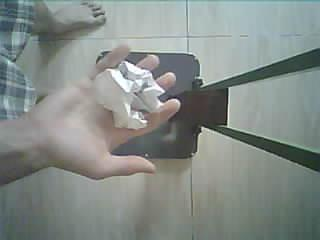paper: (96, 61, 165, 128)
